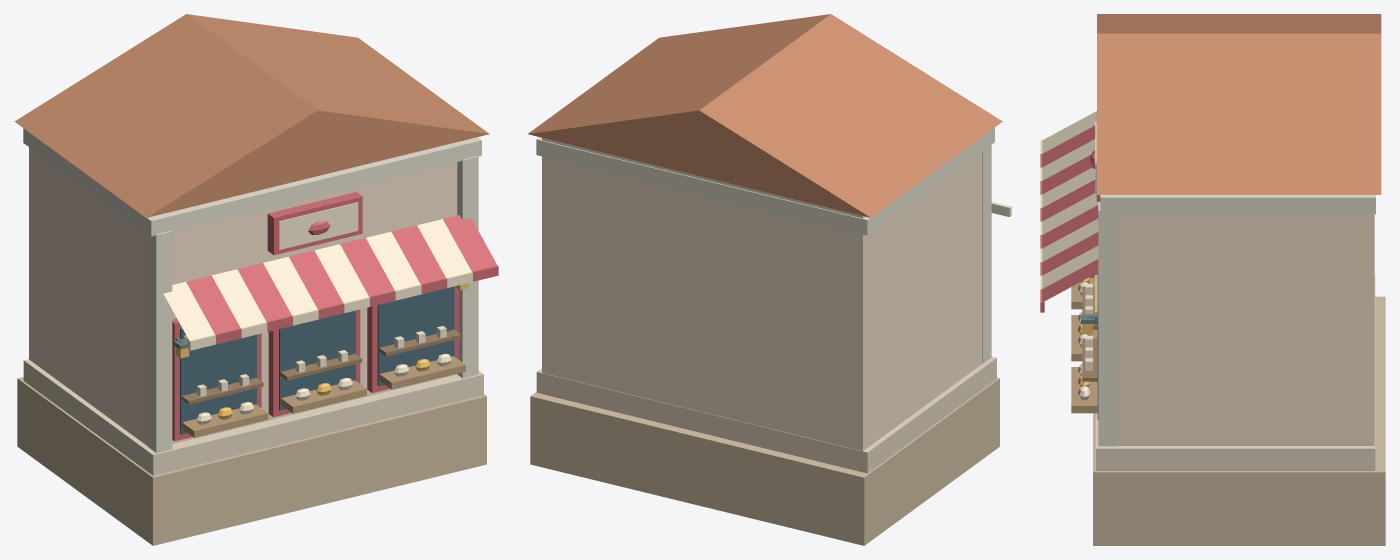
Rendered from Bakery.glb.
3 renders of one model, left to right at view 1: azimuth 30°, elevation 25°; view 2: azimuth 150°, elevation 25°; view 3: azimuth 270°, elevation 25°, orthographic. The views are drawn at different scales.
Visible parts, largest first — view 1: Bakery; view 2: Bakery; view 3: Bakery.
Boxes of the visible parts, box(x1,y1,x2,y2) form: Bakery: box(14, 14, 498, 545); Bakery: box(528, 14, 1011, 545); Bakery: box(1040, 14, 1385, 545).
Size of the model in its own units: 6.96 by 7.61 by 5.62.
